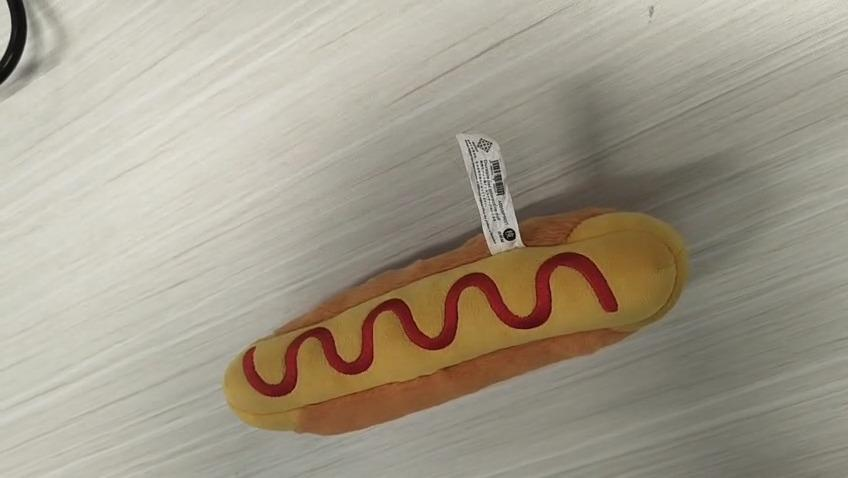hotdog: (222, 204, 687, 436)
